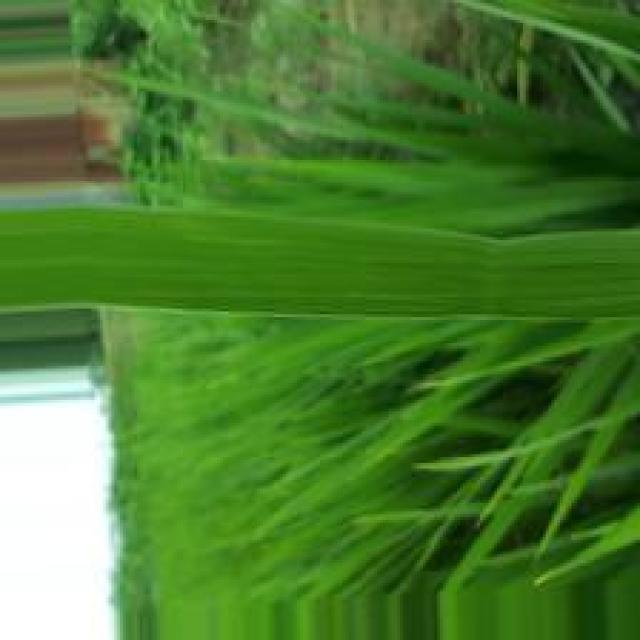HealthyLeaf: (0, 203, 640, 323)
